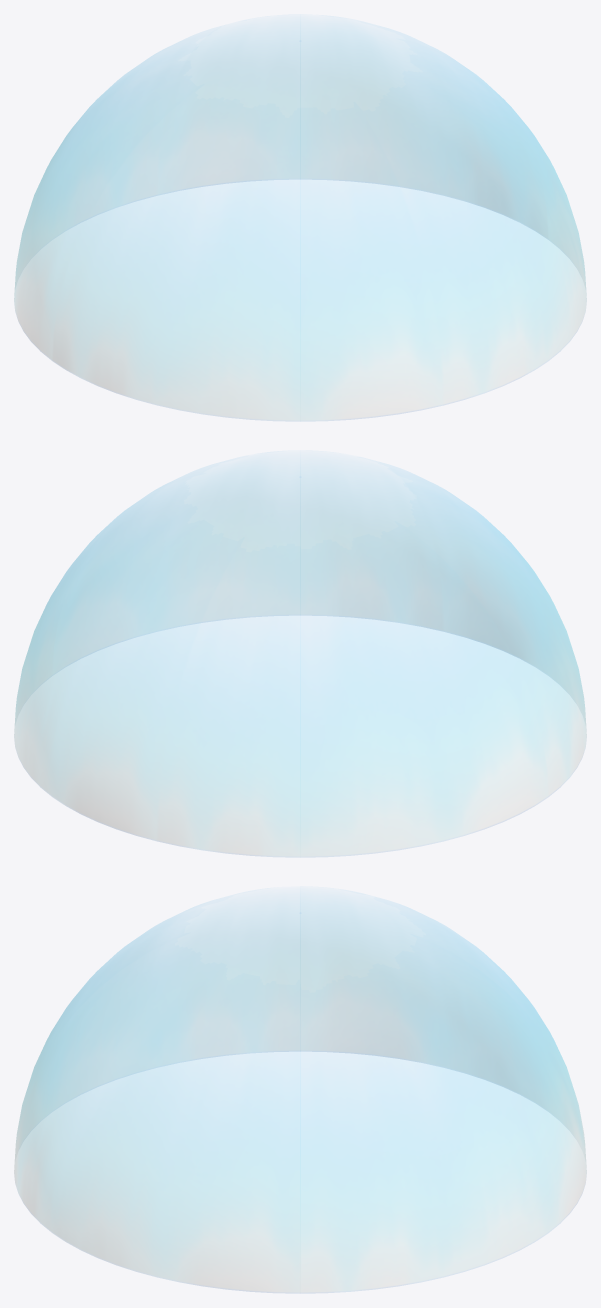
File: shock_dome_frost.glb
The picture shows the model from 3 angles, top to bottom: view 1: azimuth 30°, elevation 25°; view 2: azimuth 150°, elevation 25°; view 3: azimuth 270°, elevation 25°; orthographic projection.
Parts seen in each view (by area): view 1: dome; view 2: dome; view 3: dome.
Part boxes in pixels (<box>): dome: <box>14,26,586,421</box>; dome: <box>14,466,586,857</box>; dome: <box>14,899,586,1293</box>.
Bounding box in the file's own units: 2 × 1 × 2.
1 material, 1 textured.
